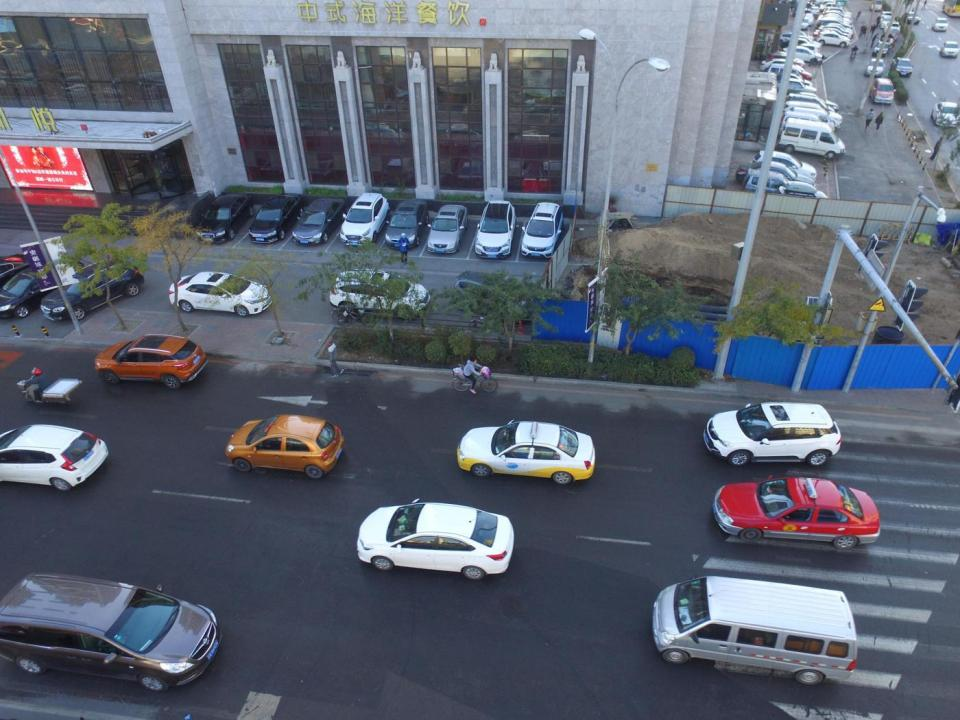car: (352, 498, 513, 586), (709, 479, 887, 548), (455, 420, 604, 491), (701, 404, 845, 469), (225, 412, 348, 482), (0, 422, 108, 492), (39, 258, 146, 322), (93, 332, 209, 389), (2, 253, 92, 318), (453, 263, 546, 318), (169, 270, 271, 319), (328, 269, 426, 317), (243, 184, 302, 242), (753, 182, 834, 222), (738, 167, 818, 207), (198, 187, 252, 245), (338, 192, 392, 248), (733, 161, 816, 194), (474, 193, 515, 258), (753, 150, 819, 190), (293, 193, 345, 242), (385, 195, 430, 249), (428, 201, 468, 255), (785, 90, 840, 114), (930, 100, 960, 128), (891, 56, 914, 80), (865, 56, 884, 78), (940, 40, 960, 57), (873, 40, 890, 59), (902, 12, 924, 26), (932, 15, 949, 30), (870, 0, 884, 11)
van: (0, 571, 223, 695), (652, 574, 862, 689), (779, 119, 847, 162), (518, 198, 565, 259), (782, 100, 844, 136), (775, 113, 841, 144), (786, 108, 840, 139), (784, 93, 839, 123), (868, 76, 895, 106)
